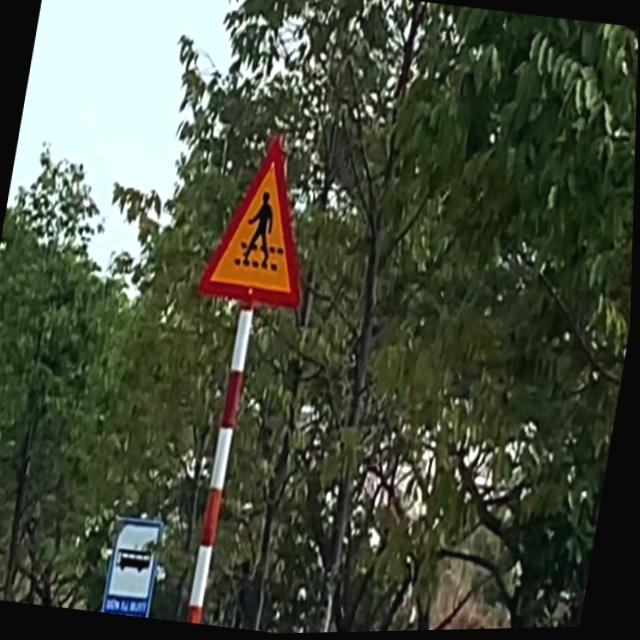Ben xe buyt: (104, 513, 168, 619)
Nguoi di bo cat ngang: (196, 128, 329, 314)
